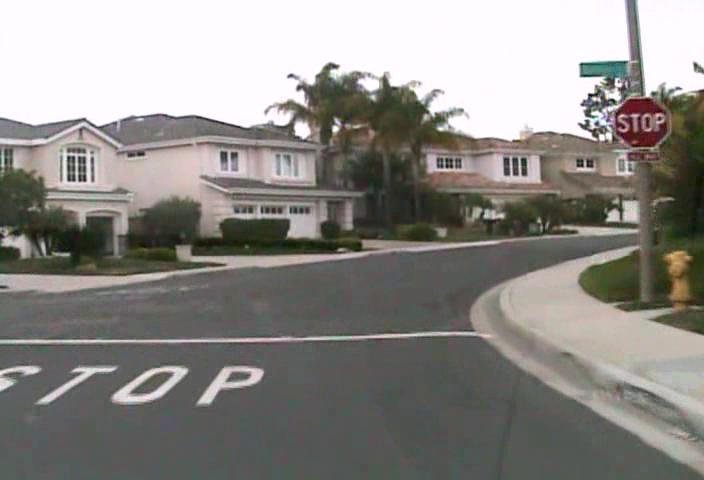stop: (613, 95, 672, 150)
